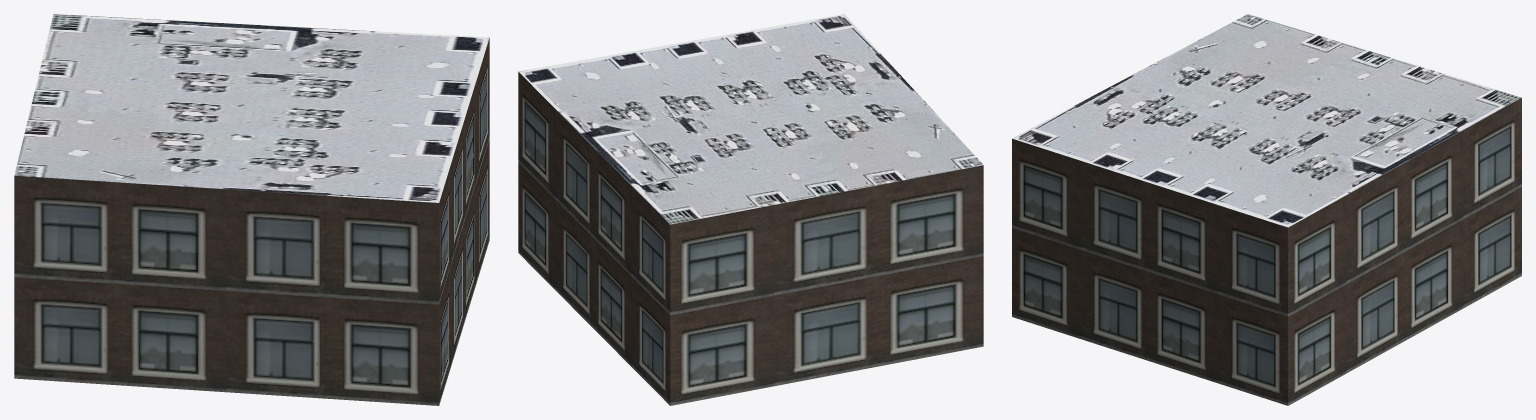
File: ResTex__1868.fbx
The picture shows the model from 3 angles, left to right: view 1: azimuth 30°, elevation 25°; view 2: azimuth 150°, elevation 25°; view 3: azimuth 270°, elevation 25°; orthographic projection. The views are drawn at different scales.
Parts seen in each view (by area): view 1: CityEngineMaterial_16_m, CityEngineMaterial_15_m; view 2: CityEngineMaterial_16_m, CityEngineMaterial_15_m; view 3: CityEngineMaterial_16_m, CityEngineMaterial_15_m.
Boxes of the visible parts, x1,y1,x2,y2 form: CityEngineMaterial_16_m: [14, 38, 489, 405]; CityEngineMaterial_15_m: [14, 14, 489, 202]; CityEngineMaterial_16_m: [518, 72, 983, 405]; CityEngineMaterial_15_m: [518, 14, 983, 224]; CityEngineMaterial_16_m: [1012, 98, 1521, 405]; CityEngineMaterial_15_m: [1012, 14, 1521, 227].
Size of the model in its own units: 15.41 by 6 by 15.55.
2 materials, 2 textured.
